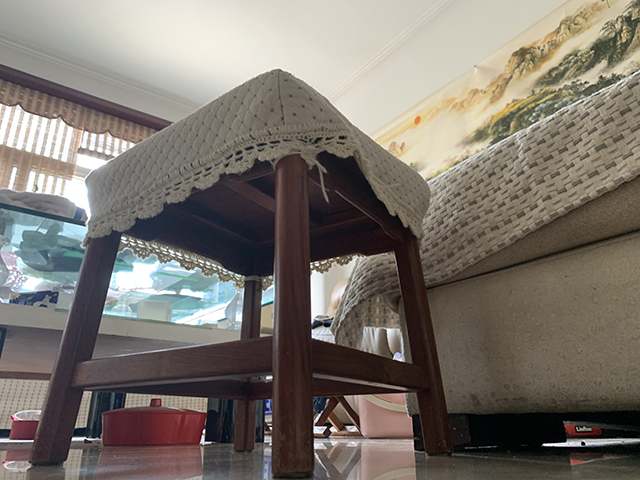sofa: (328, 68, 640, 453)
stool: (25, 67, 457, 480)
